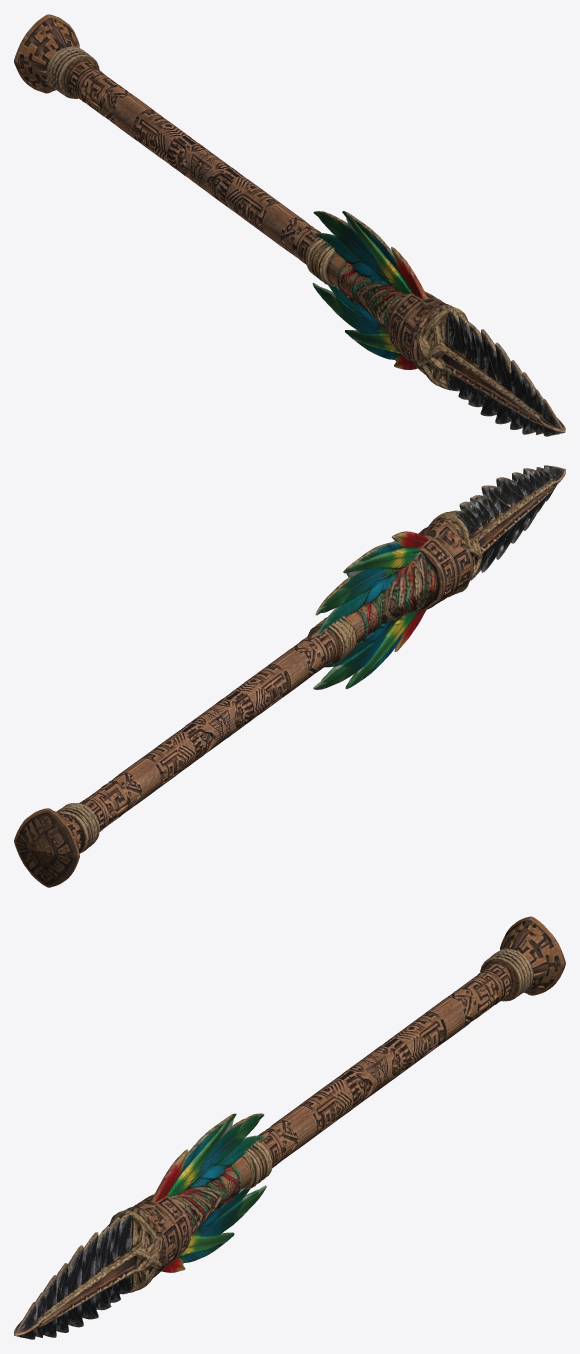
Rendered from obsidian_spear.medium.glb.
The picture shows the model from 3 angles, top to bottom: view 1: azimuth 30°, elevation 25°; view 2: azimuth 150°, elevation 25°; view 3: azimuth 330°, elevation 25°; orthographic projection.
Parts seen in each view (by area): view 1: model; view 2: model; view 3: model.
Part boxes in pixels (x1,y1,x2,y2): model: (14, 14, 565, 436); model: (14, 465, 565, 887); model: (14, 916, 565, 1339).
Size of the model in its own units: 0.1444 by 0.2589 by 2.
Materials: 1 (1 with a texture image).
